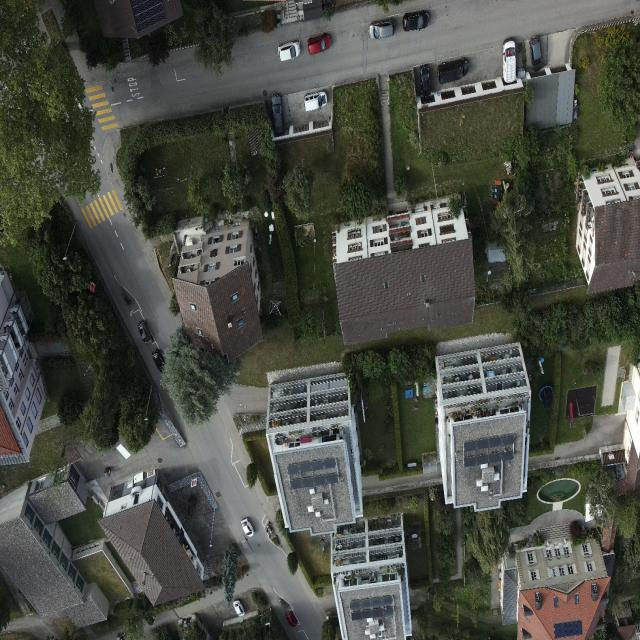panneaux_solaires: (465, 434, 516, 468), (288, 458, 338, 489), (350, 594, 394, 621), (131, 0, 166, 33), (554, 620, 583, 638)
passage_pieton: (80, 188, 124, 230), (84, 84, 120, 131)
